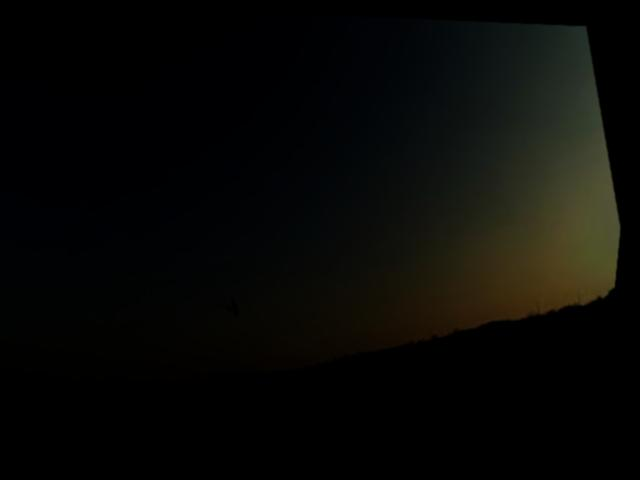uav: (221, 284, 256, 325)
